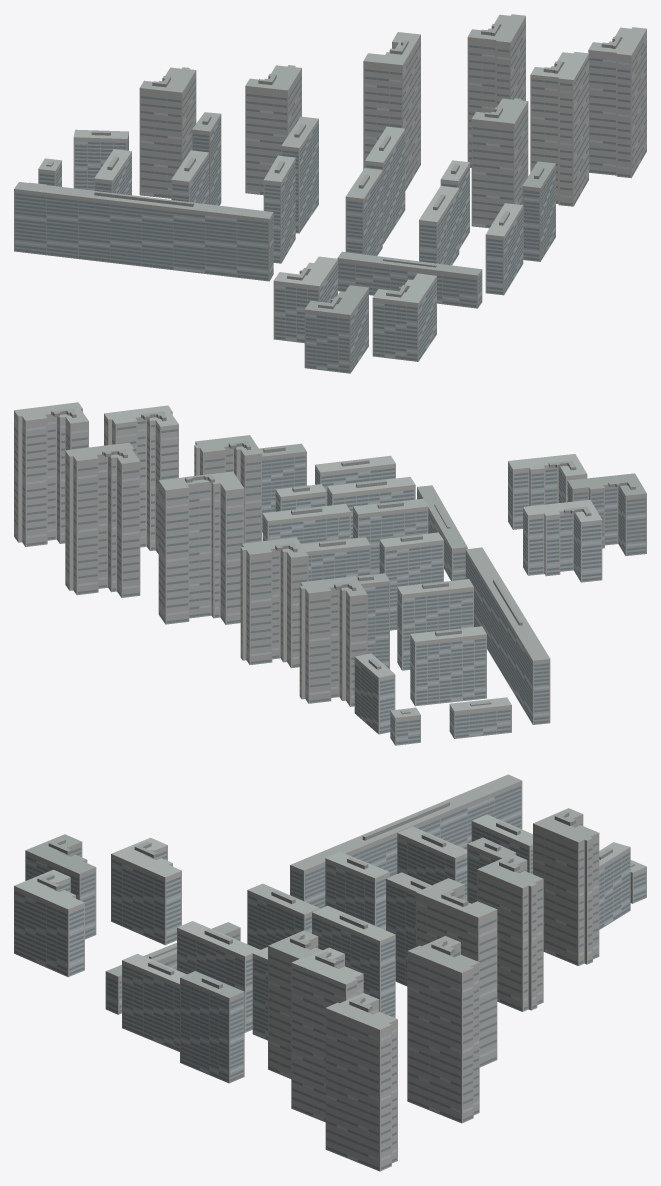
The model's file is apt-a10025675.glb.
3 views of the same model, one above another, from view 1: azimuth 30°, elevation 25°; view 2: azimuth 150°, elevation 25°; view 3: azimuth 270°, elevation 25° (orthographic). The views are drawn at different scales.
Parts seen in each view (by area): view 1: apt-a10025675; view 2: apt-a10025675; view 3: apt-a10025675.
Part boxes in pixels (box(x1,y1,x2,y2)): apt-a10025675: box(14, 14, 646, 373); apt-a10025675: box(14, 402, 646, 745); apt-a10025675: box(14, 774, 646, 1171).
Size of the model in its own units: 470 by 104 by 387.
